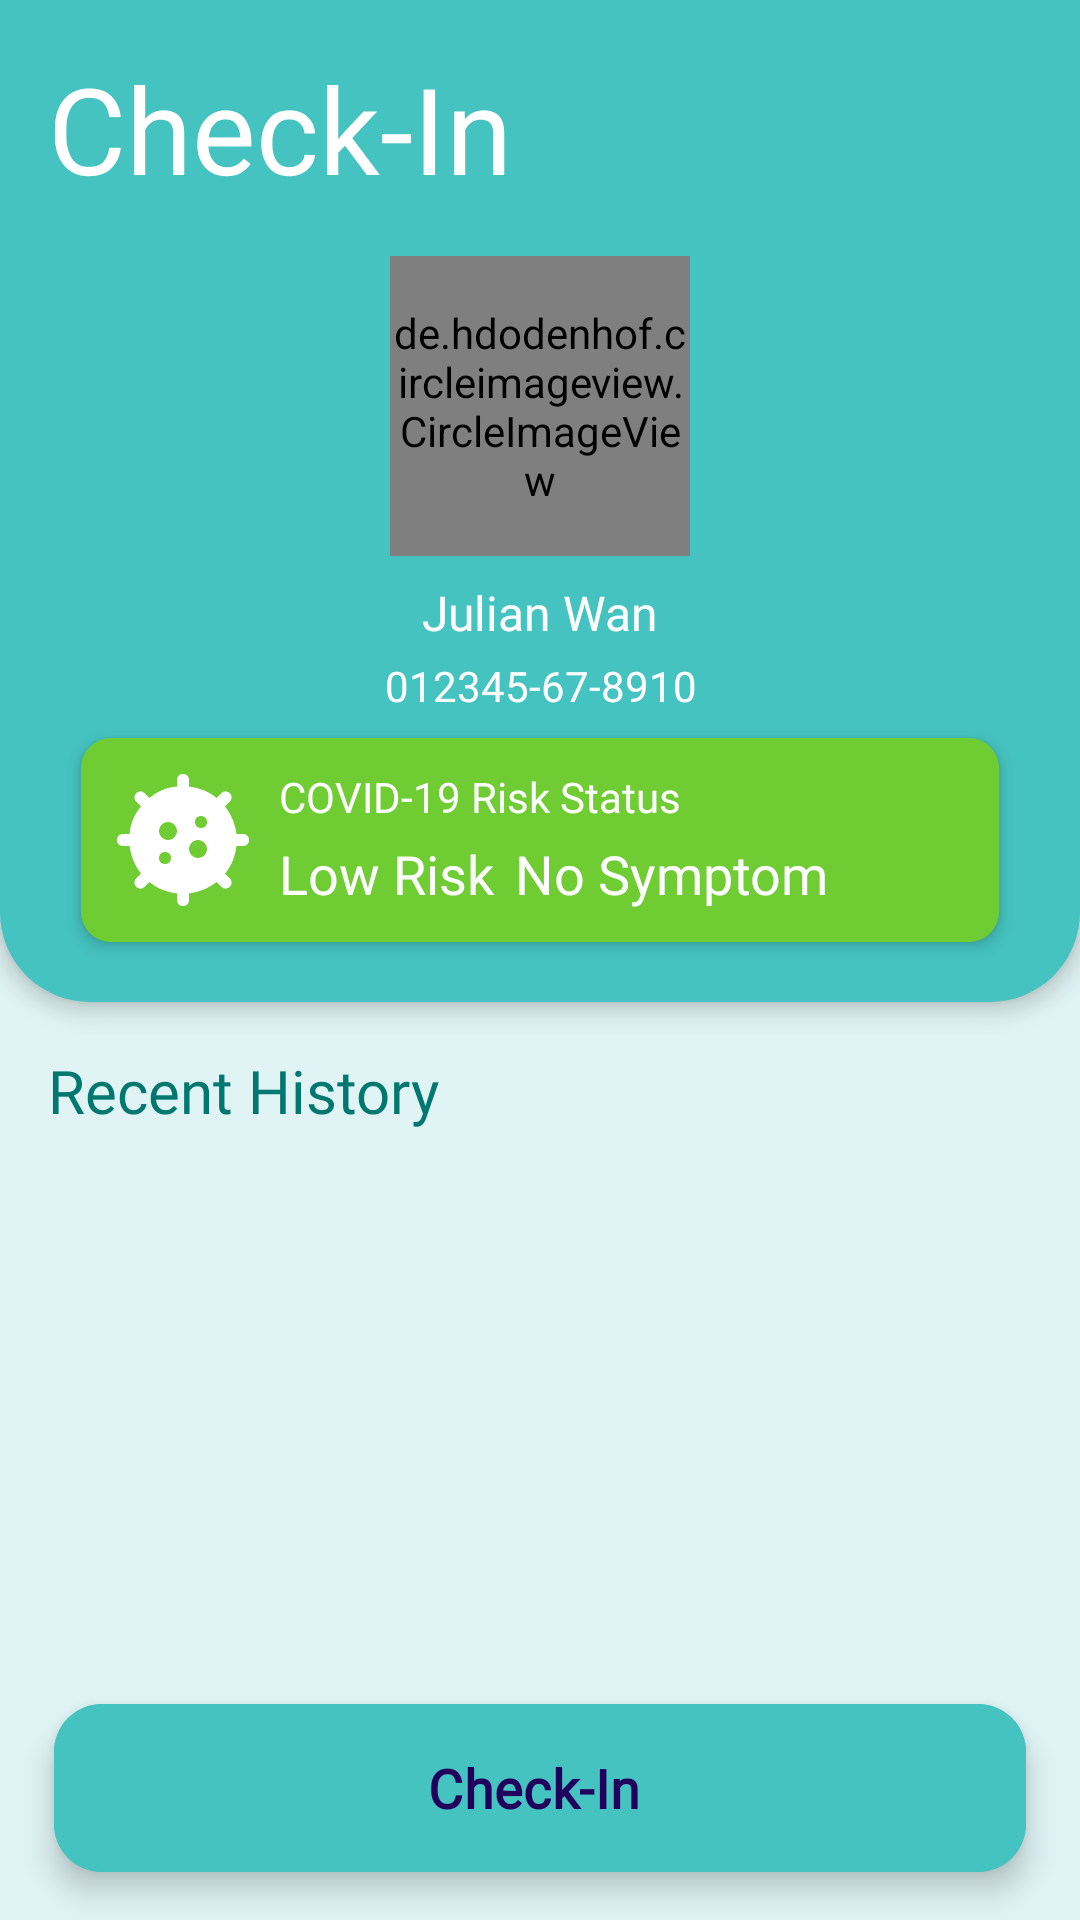

Where to tap for icons on this 1080 × 1920 app screen, as point (x, y):
coronavirus: point (183, 840)
